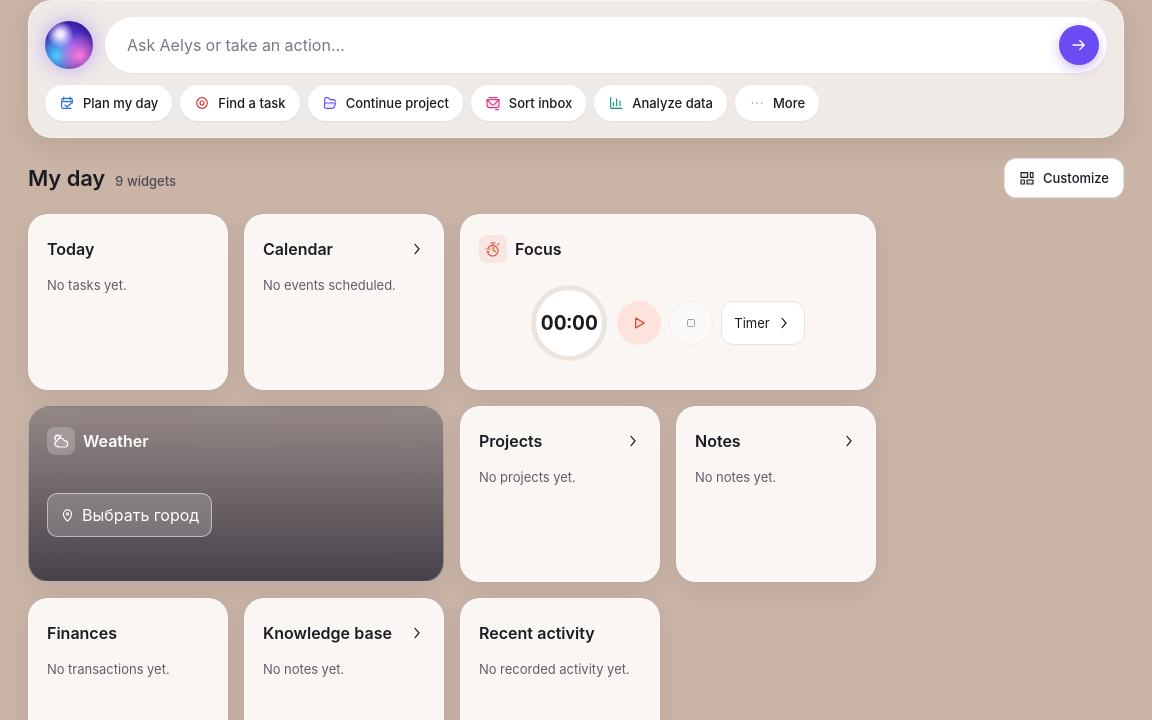
it: dashboard customization › locks editing controls and does not move or save when dragging a heading
The image size is (1152, 720).
Press the mouse on the element showing "Today" at (71, 249), box [47,239,94,259]
Click the button "Customize". click: click(1064, 178)
box: [1004,158,1124,198]
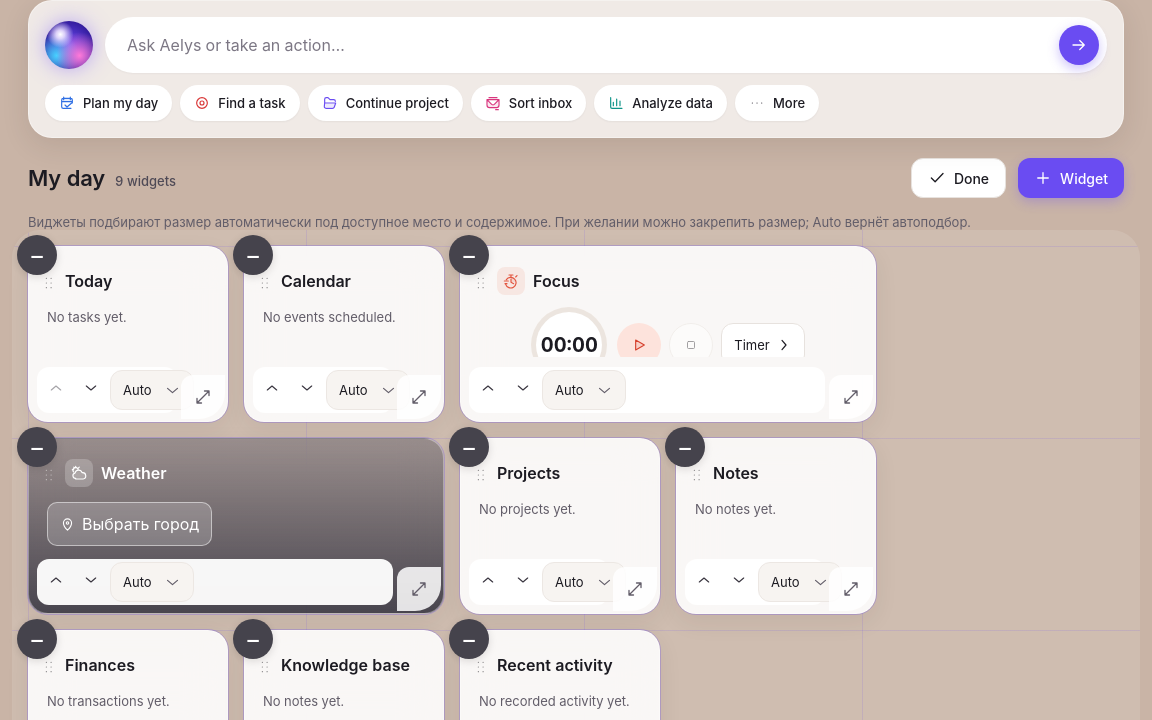
Expected: the button named "Move Today" is shown, [31,261,67,305]
Now the button named "Remove Today" is shown, box [17,235,57,275]
